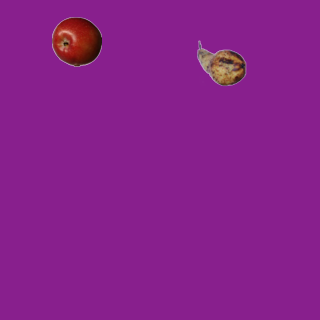Apple Braeburn: (51, 16, 101, 66)
Pear Abate: (196, 38, 246, 88)
